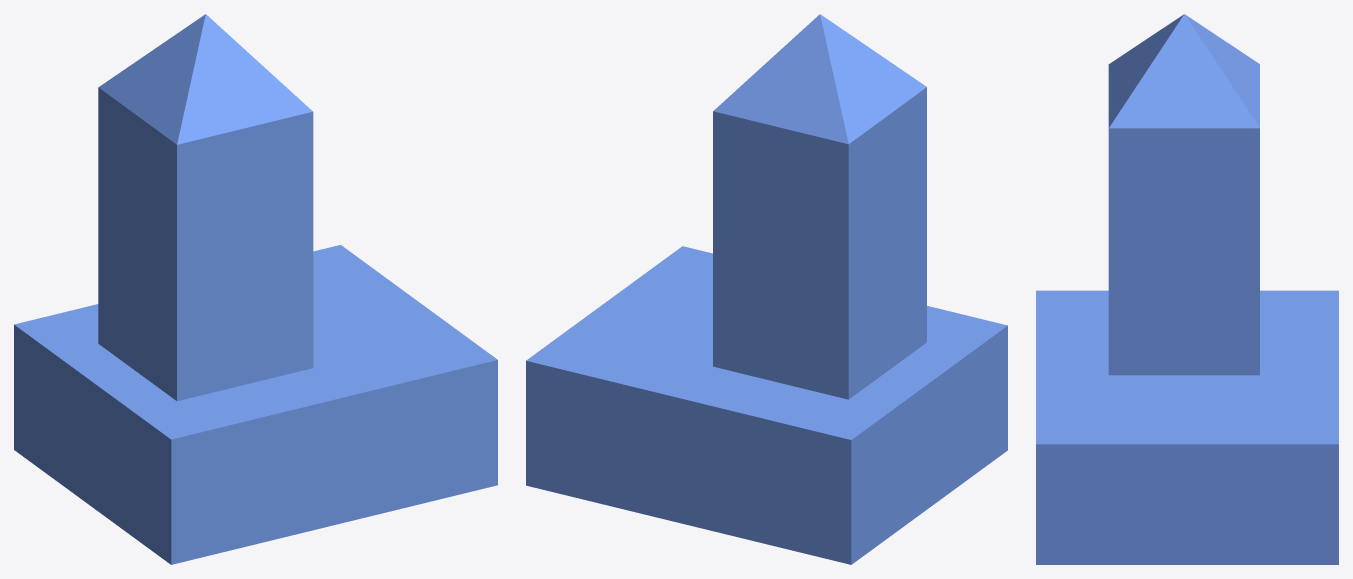
Rendered from bangunan-ruang.obj.
3 renders of one model, left to right at view 1: azimuth 30°, elevation 25°; view 2: azimuth 150°, elevation 25°; view 3: azimuth 270°, elevation 25°, orthographic. The views are drawn at different scales.
Parts seen in each view (by area): view 1: BangunanRuang; view 2: BangunanRuang; view 3: BangunanRuang.
Part boxes in pixels (x1,y1,x2,y2): BangunanRuang: [14, 14, 497, 564]; BangunanRuang: [526, 14, 1007, 564]; BangunanRuang: [1036, 14, 1338, 564].
Size of the model in its own units: 0.6 by 0.82 by 0.5.
